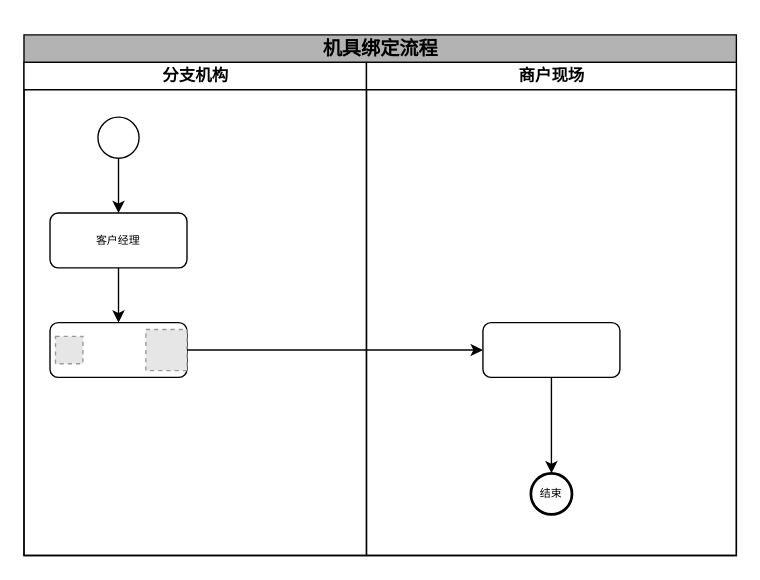
This 760x580 diagram has some shape labels left out. Grey dashed boxes stand in for pictures. The box of each missing label's shape, as (x1, y1, x2, y2) in pixels:
开始: (97, 116, 139, 158)
现场演示，交给商户: (482, 321, 620, 377)
设备绑定: (49, 321, 187, 377)
